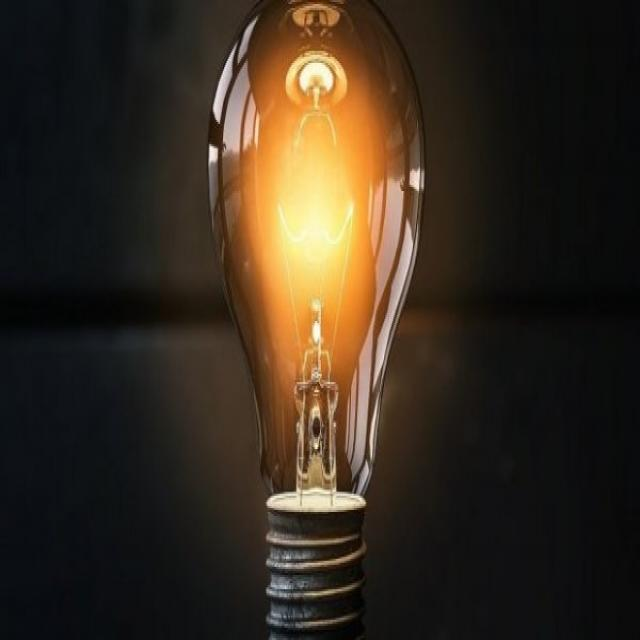light_bulb: (204, 4, 440, 640)
